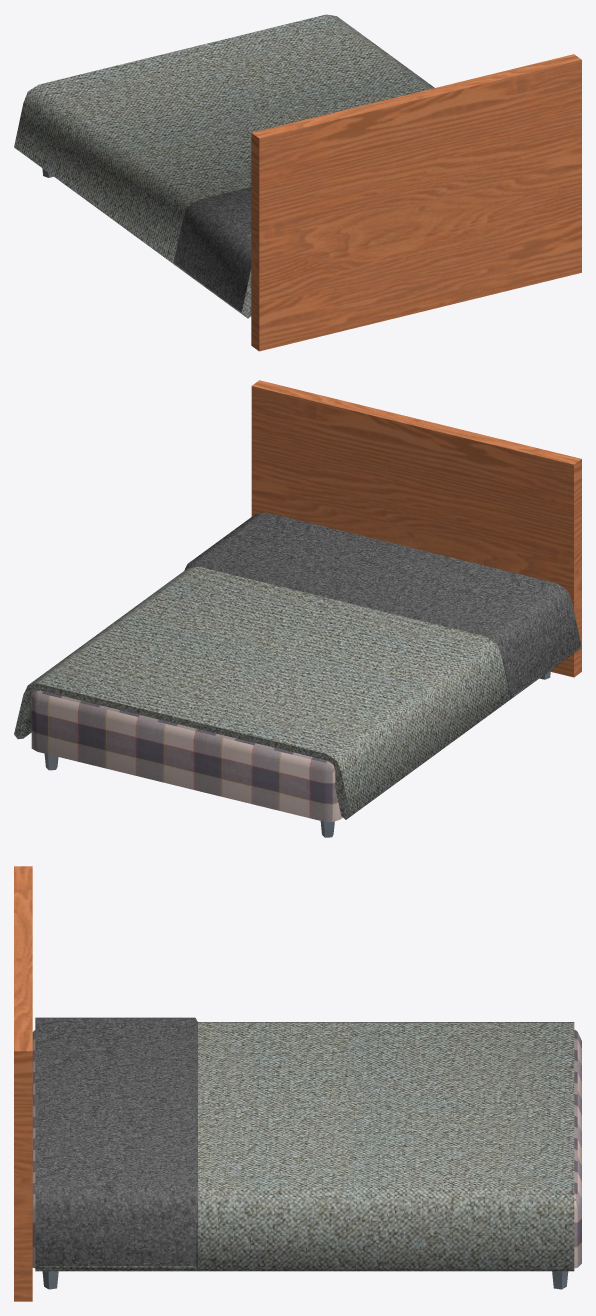
File: Bed_09.glb
The picture shows the model from 3 angles, top to bottom: view 1: azimuth 30°, elevation 25°; view 2: azimuth 150°, elevation 25°; view 3: azimuth 270°, elevation 25°; orthographic projection. The views are drawn at different scales.
Visible parts, largest first — view 1: Bed_09; view 2: Bed_09; view 3: Bed_09.
Boxes of the visible parts, x1,y1,x2,y2 form: Bed_09: (14, 14, 581, 351); Bed_09: (14, 380, 581, 837); Bed_09: (14, 866, 581, 1301).
Bounding box in the file's own units: 2.06 × 1.23 × 2.53.
Materials: 5 (5 with a texture image).
